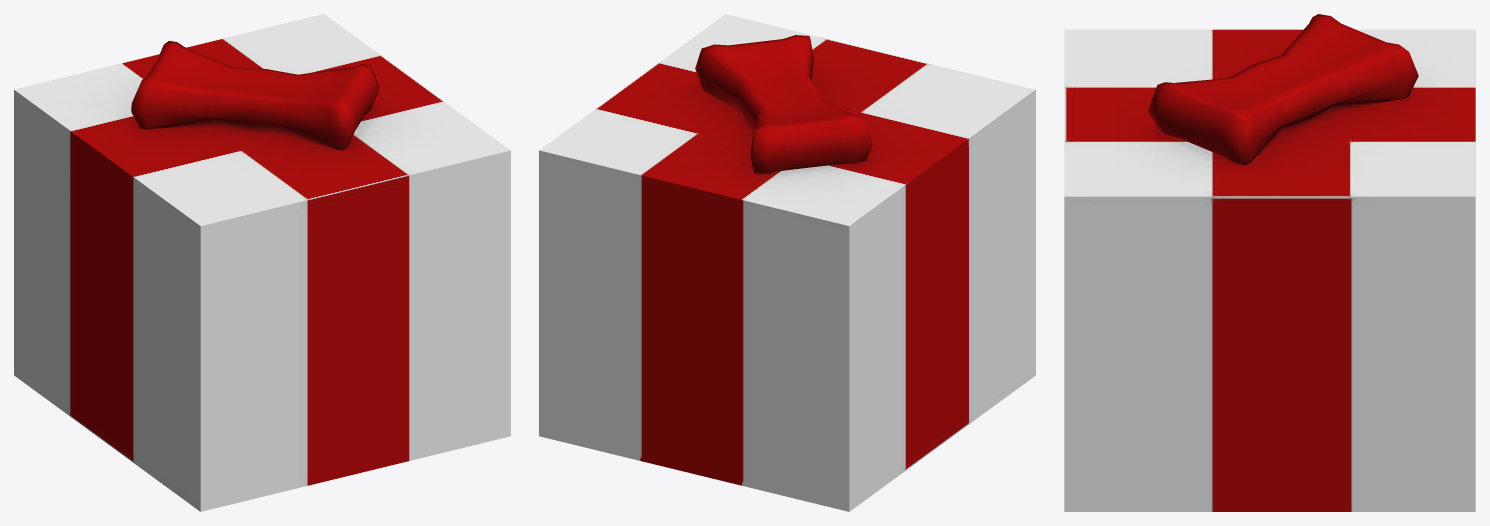
The model's file is giftlowpoly2.glb.
The picture shows the model from 3 angles, left to right: view 1: azimuth 30°, elevation 25°; view 2: azimuth 150°, elevation 25°; view 3: azimuth 270°, elevation 25°; orthographic projection. The views are drawn at different scales.
Visible parts, largest first — view 1: Cube; view 2: Cube; view 3: Cube.
Part boxes in pixels (box(x1,y1,x2,y2)): Cube: box(14, 14, 510, 511); Cube: box(539, 14, 1035, 511); Cube: box(1064, 14, 1475, 511).
Bounding box in the file's own units: 0.2459 × 0.2494 × 0.256.
1 material, 1 textured.
